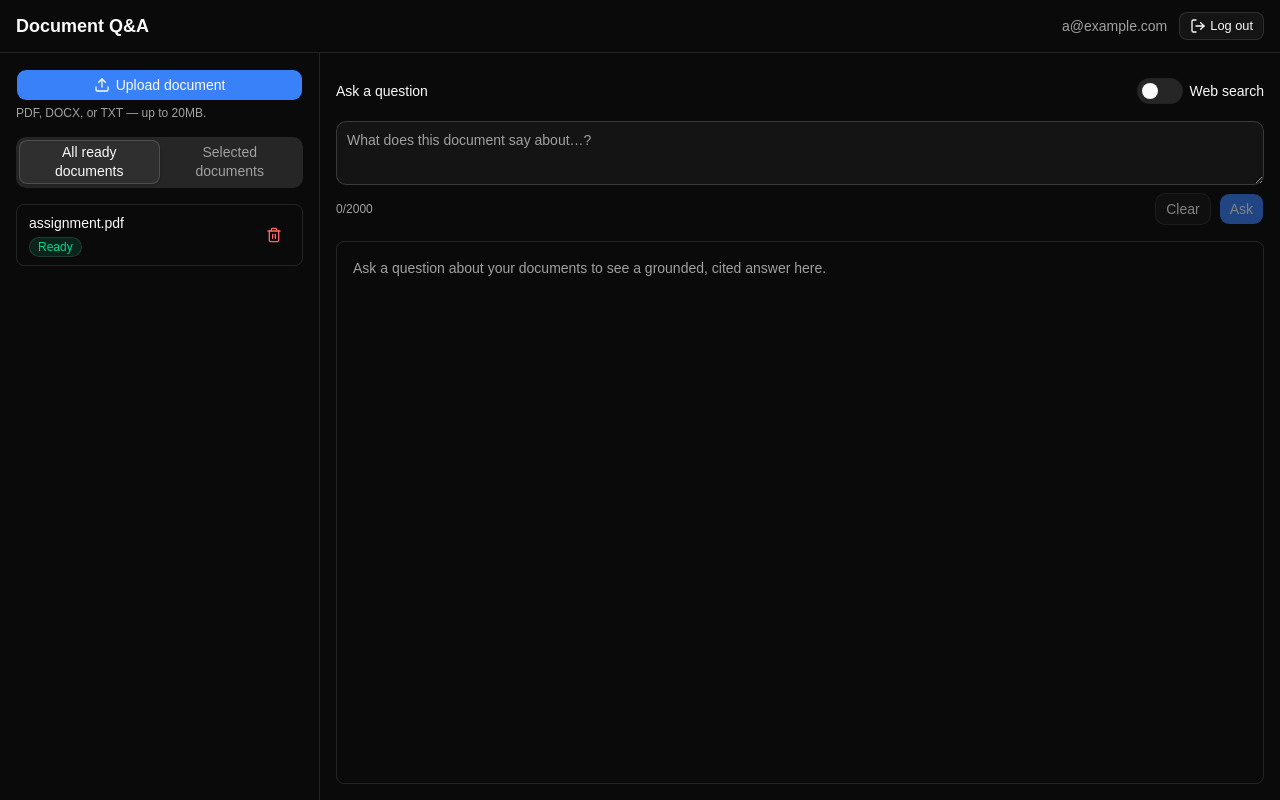
Test case: WorkspacePage question + citation flow › shows the provisional answer while streaming, then the final answer with a citation button
The width and height of the screenshot is (1280, 800).
Expected: the button "Ask" is shown, [1219, 193, 1264, 225]
Type "What is the time budget?" into the text box labelled "Ask a question". click: (800, 153)
box: [336, 121, 1264, 185]
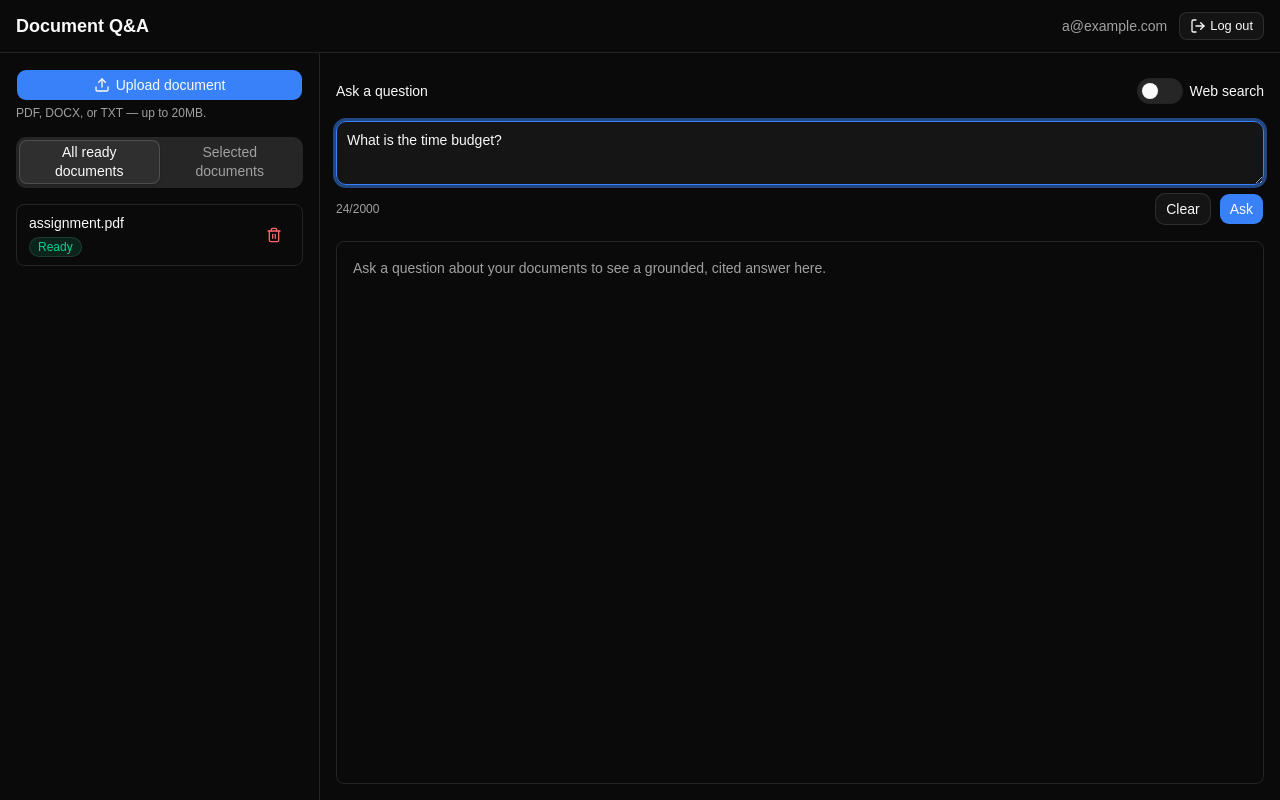
Click the button "Ask". click: (1241, 209)
box: [1219, 193, 1264, 225]
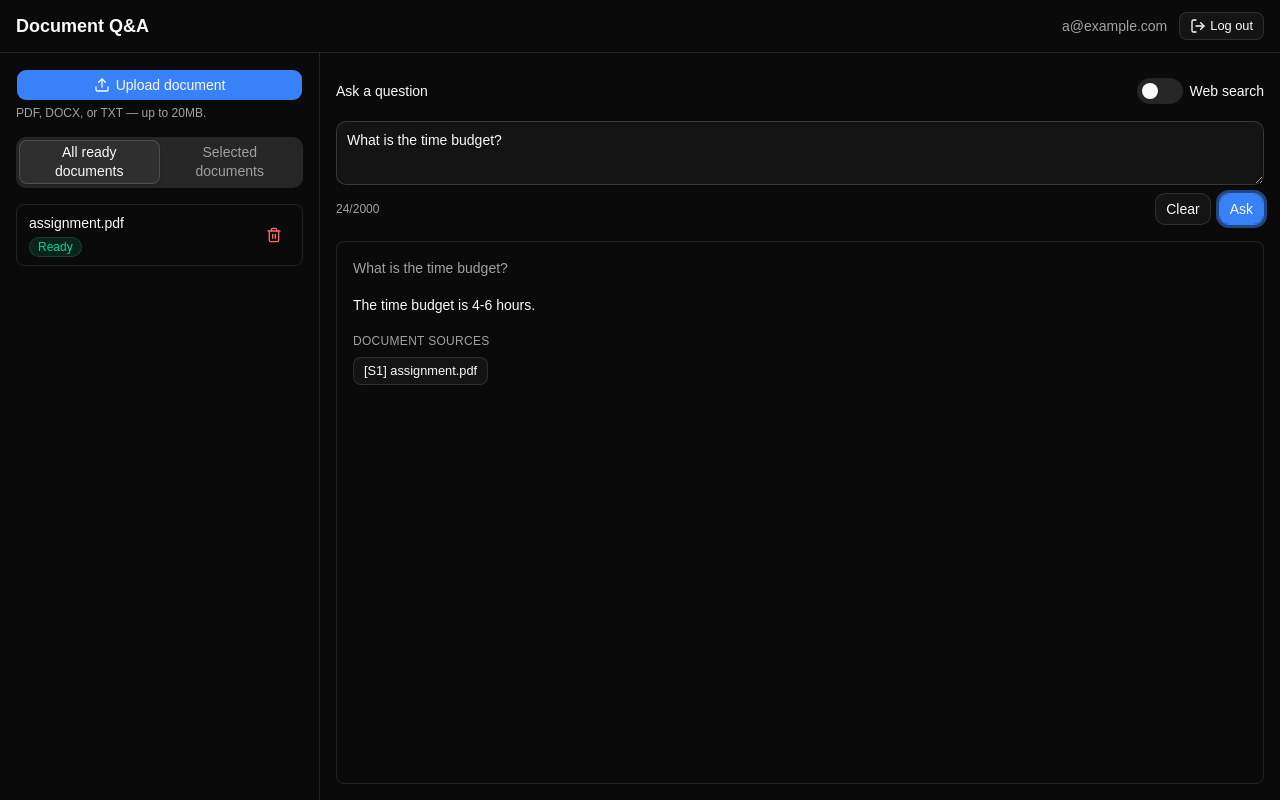
Expected: the text "The time budget is 4-6 hours." is shown, [353, 297, 535, 313]
Expected: the button "[S1] assignment.pdf" is shown, [353, 357, 488, 385]
